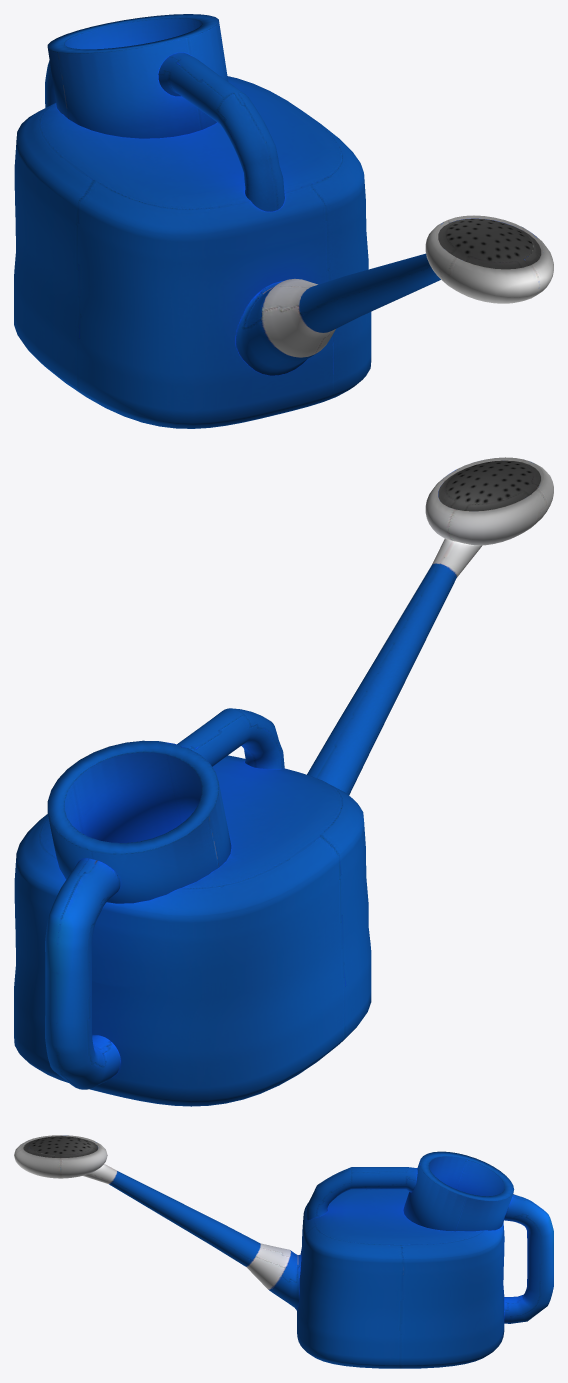
The model's file is Joro.fbx.
3 renders of one model, top to bottom at view 1: azimuth 30°, elevation 25°; view 2: azimuth 150°, elevation 25°; view 3: azimuth 270°, elevation 25°, orthographic. The views are drawn at different scales.
Parts seen in each view (by area): view 1: 球; view 2: 球; view 3: 球.
Boxes of the visible parts, x1,y1,x2,y2 form: 球: (14, 14, 553, 428); 球: (14, 457, 553, 1106); 球: (14, 1135, 553, 1368).
Size of the model in its own units: 3.96 by 4.74 by 12.05.
